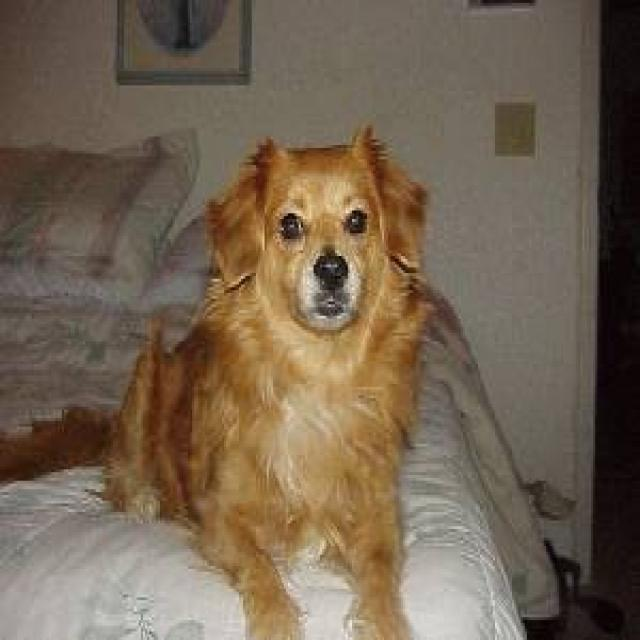dog-pomeranian: (2, 125, 433, 634)
